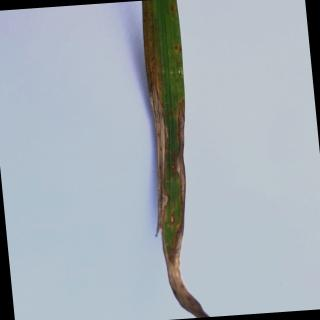Hawar-Daun: (143, 0, 169, 233), (161, 227, 214, 317), (174, 98, 186, 206), (167, 214, 177, 227)
